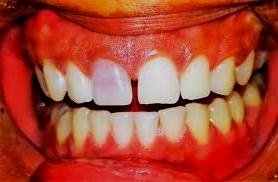Calculus: (68, 104, 92, 145), (223, 95, 246, 123), (240, 81, 262, 110)
Discoloration: (86, 52, 132, 109)
